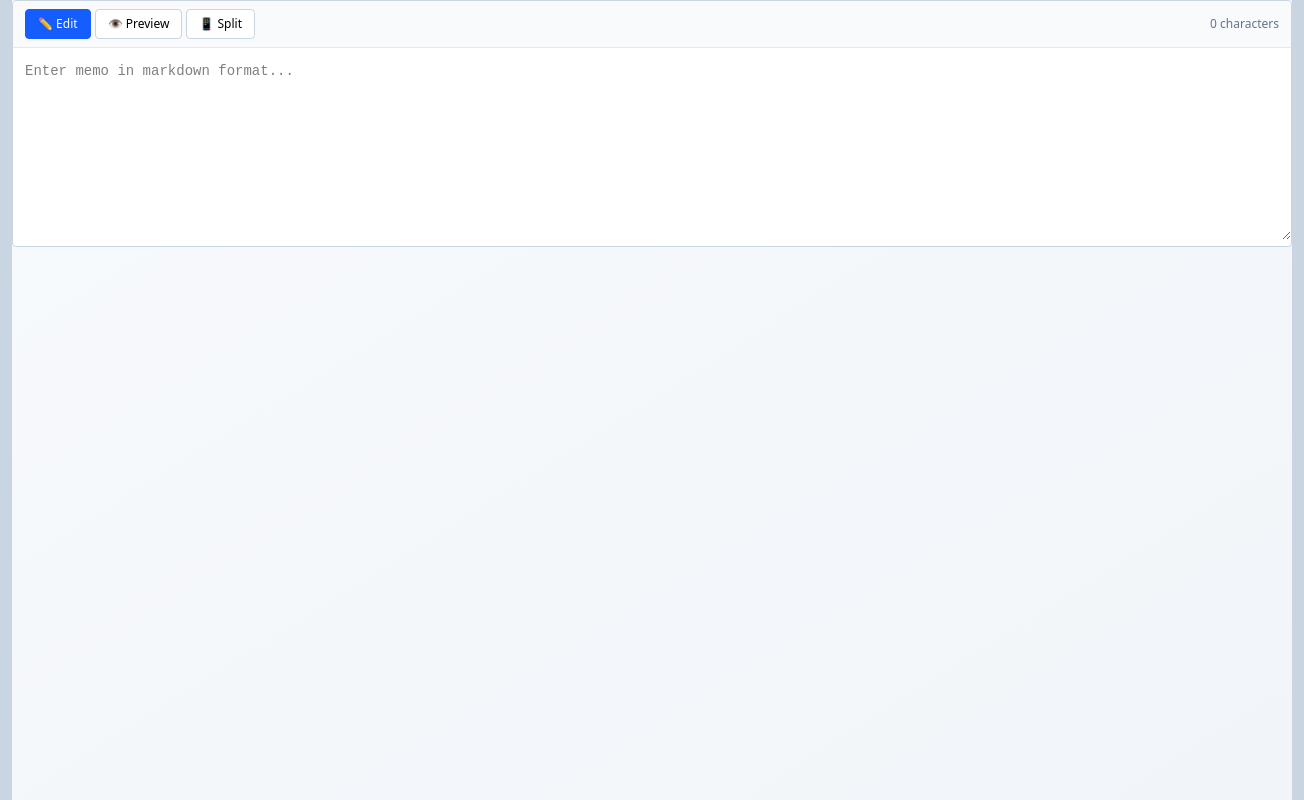
Test: MemoEditor › shows empty preview message when no content
What coordinates should you click on to do the following:
click the button with aria-label "Preview mode"
I would click on:
 (138, 24)
Its box is [95, 9, 182, 39].
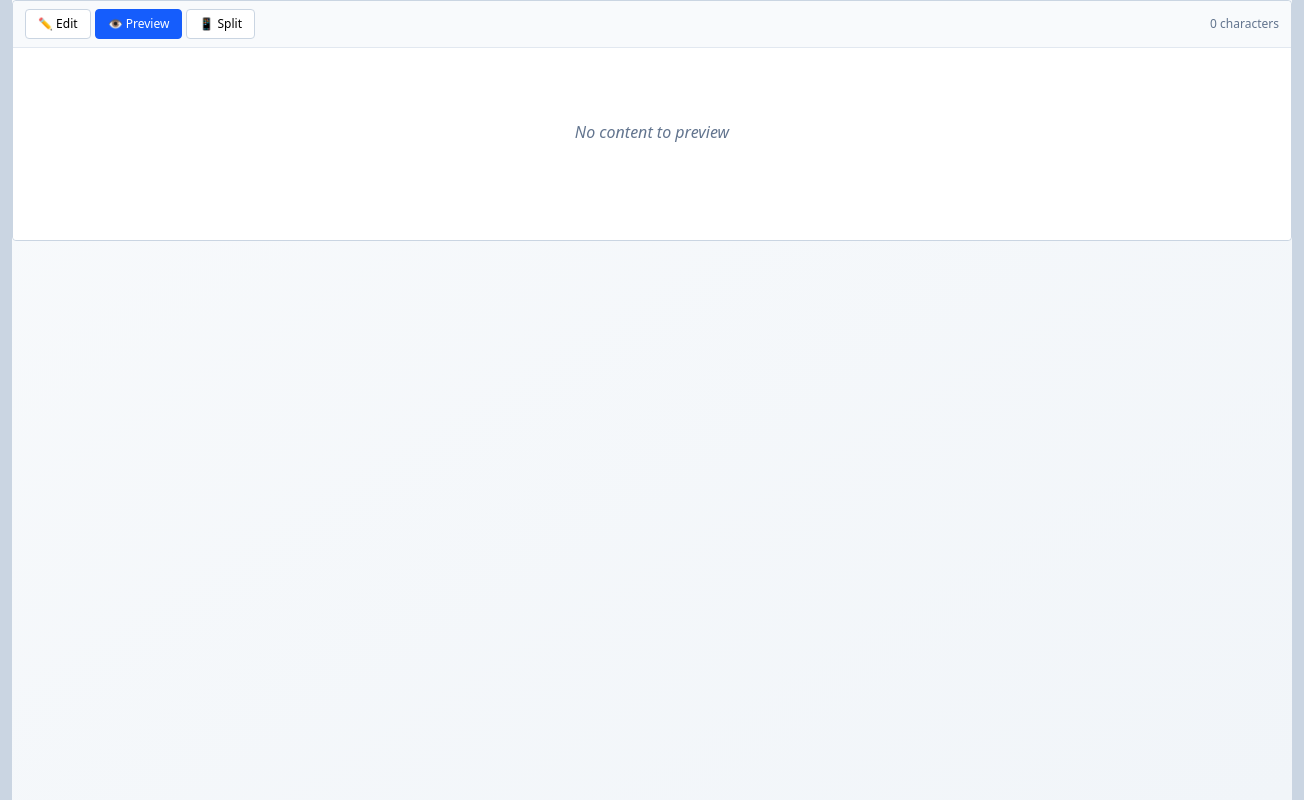
Expected: the text "No content to preview" is shown, [575, 121, 729, 143]
